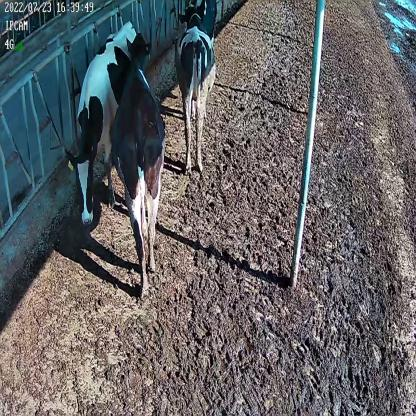cow: (63, 23, 138, 227), (110, 30, 168, 291), (173, 0, 217, 176)
